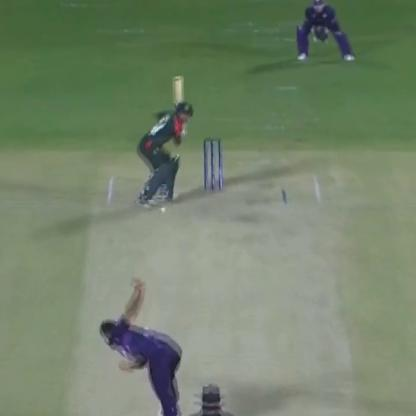ball: (154, 204, 171, 213)
bat: (168, 69, 198, 128)
pitch: (60, 176, 360, 415)
